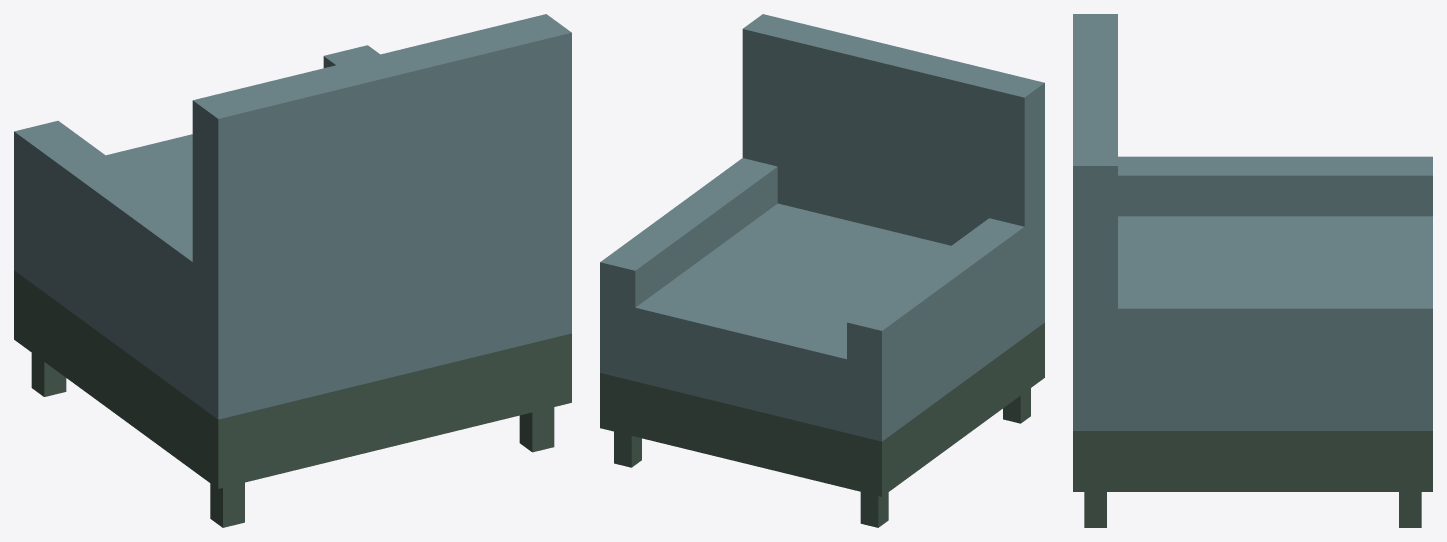
3 renders of one model, left to right at view 1: azimuth 30°, elevation 25°; view 2: azimuth 150°, elevation 25°; view 3: azimuth 270°, elevation 25°, orthographic. The views are drawn at different scales.
Visible parts, largest first — view 1: back, base, arm-0, cushion, leg-1-1, leg-0-1, leg-0-0, arm-1; view 2: back, cushion, arm-0, base, arm-1, leg-0-0, leg-1-0, leg-0-1; view 3: arm-1, cushion, base, arm-0, back, leg-1-0, leg-1-1.
Part boxes in pixels (x1=…): back: x1=192, y1=14, x2=571, y2=419; base: x1=14, y1=270, x2=571, y2=488; arm-0: x1=14, y1=120, x2=197, y2=404; cushion: x1=106, y1=134, x2=192, y2=218; leg-1-1: x1=519, y1=407, x2=554, y2=452; leg-0-1: x1=210, y1=482, x2=244, y2=527; leg-0-0: x1=31, y1=353, x2=66, y2=396; arm-1: x1=323, y1=45, x2=379, y2=67; back: x1=742, y1=14, x2=1044, y2=333; cushion: x1=635, y1=203, x2=950, y2=432; arm-0: x1=847, y1=218, x2=1028, y2=441; base: x1=600, y1=322, x2=1044, y2=496; arm-1: x1=600, y1=158, x2=777, y2=381; leg-0-0: x1=860, y1=492, x2=888, y2=527; leg-1-0: x1=614, y1=431, x2=641, y2=467; leg-0-1: x1=1003, y1=388, x2=1030, y2=423; arm-1: x1=1109, y1=289, x2=1432, y2=430; cushion: x1=1118, y1=216, x2=1432, y2=289; base: x1=1073, y1=431, x2=1432, y2=491; arm-0: x1=1118, y1=156, x2=1432, y2=216; back: x1=1073, y1=14, x2=1117, y2=430; leg-1-0: x1=1399, y1=492, x2=1421, y2=527; leg-1-1: x1=1084, y1=492, x2=1106, y2=527.
Bounding box in the file's own units: 0.8 × 0.9 × 0.8.
